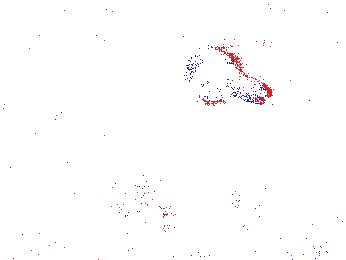flame jellyfish: (184, 49, 273, 106), (103, 170, 178, 224), (217, 167, 291, 221)
